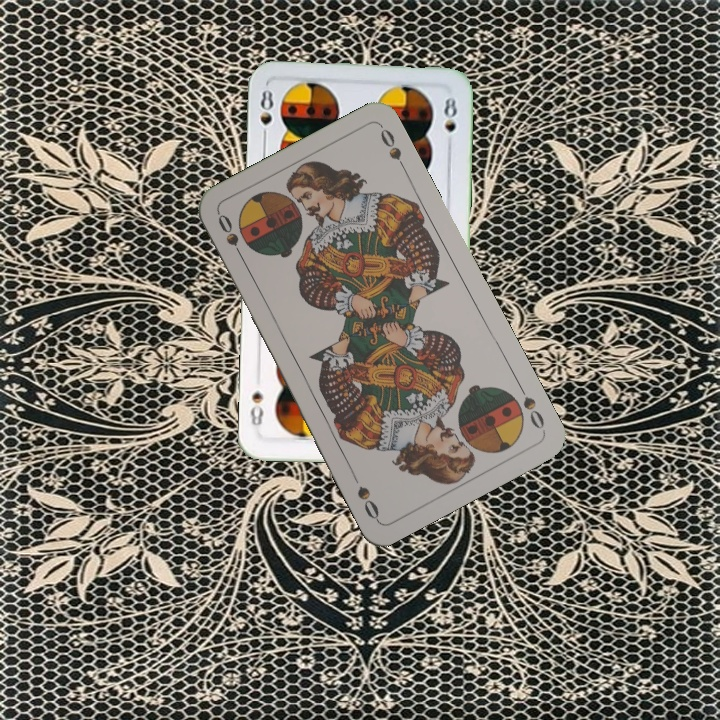S8: (256, 86, 276, 145)
SO: (213, 209, 248, 265), (513, 379, 548, 434)
